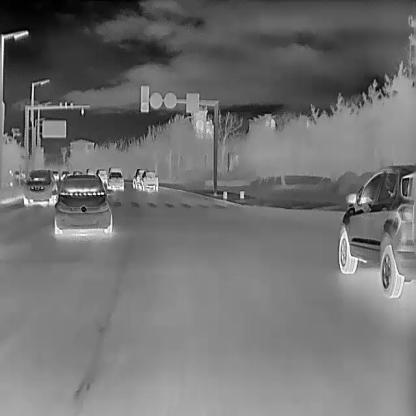car: (338, 164, 415, 298), (51, 173, 112, 234), (23, 169, 57, 205), (139, 171, 158, 190), (106, 171, 123, 189), (132, 168, 147, 188), (96, 168, 107, 184), (108, 166, 121, 171)
